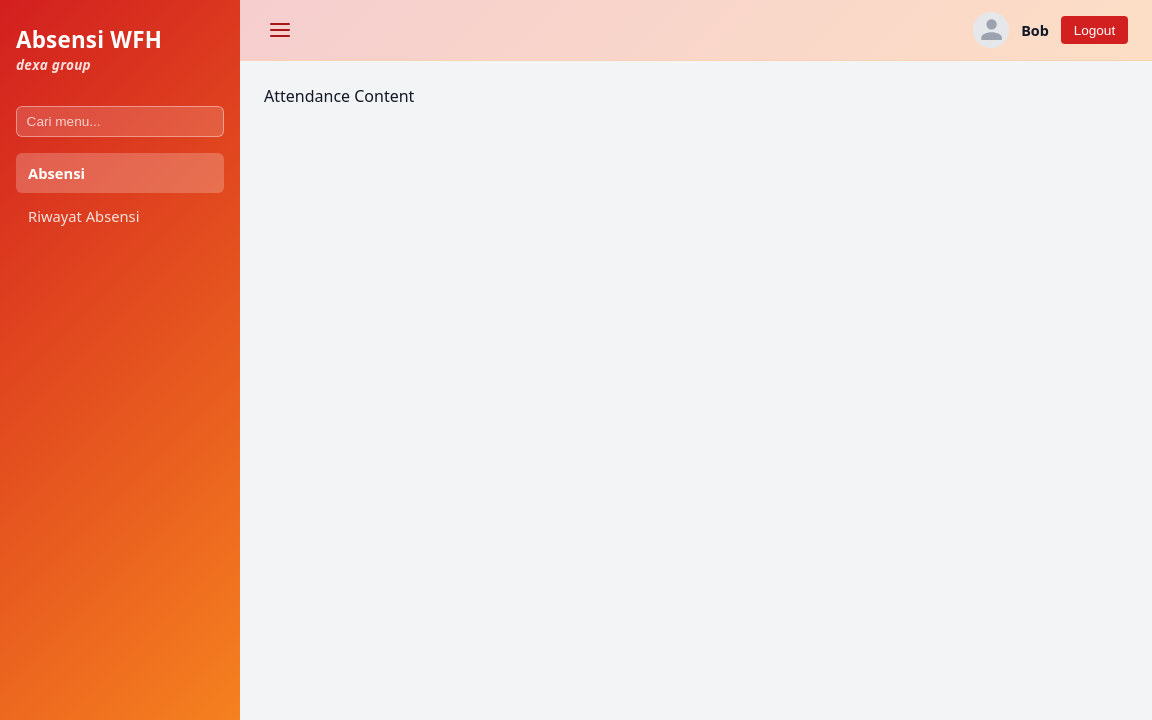
it: AppLayout › shows an empty state when the search matches nothing
This screenshot has width=1152, height=720.
Type "zzz" into the search field labelled "Cari menu" at (120, 122), box [16,106,224,137]
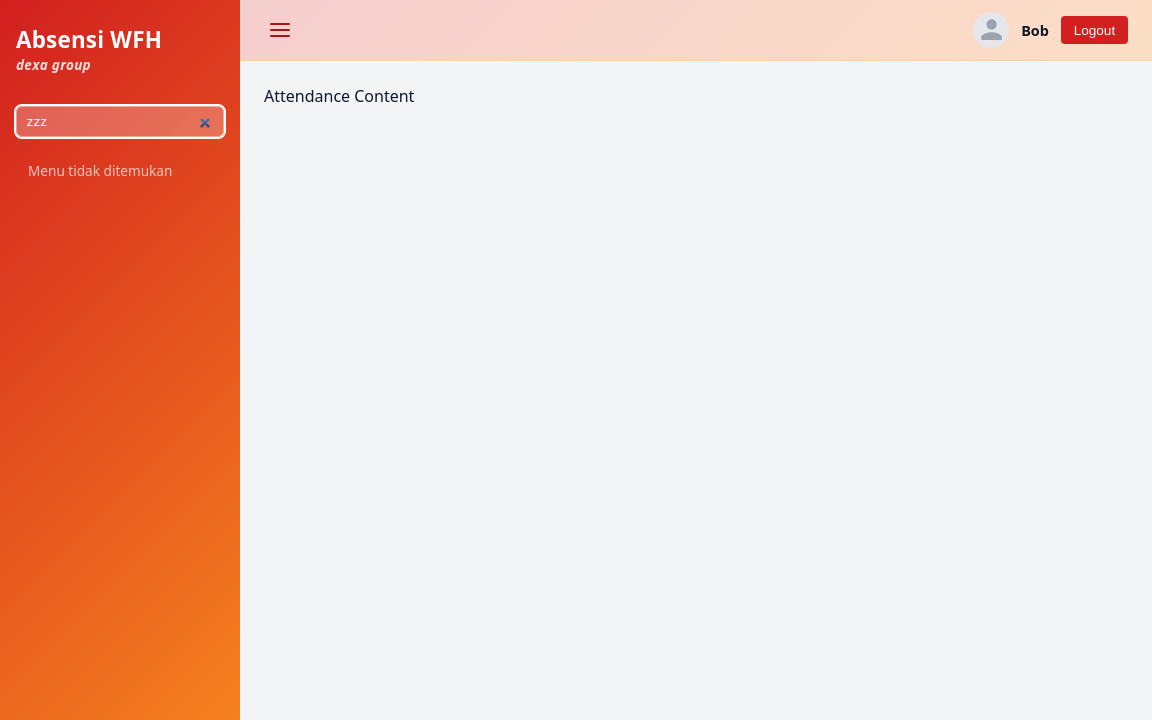
Result: the text "Menu tidak ditemukan" is shown at [28,161,172,180]
